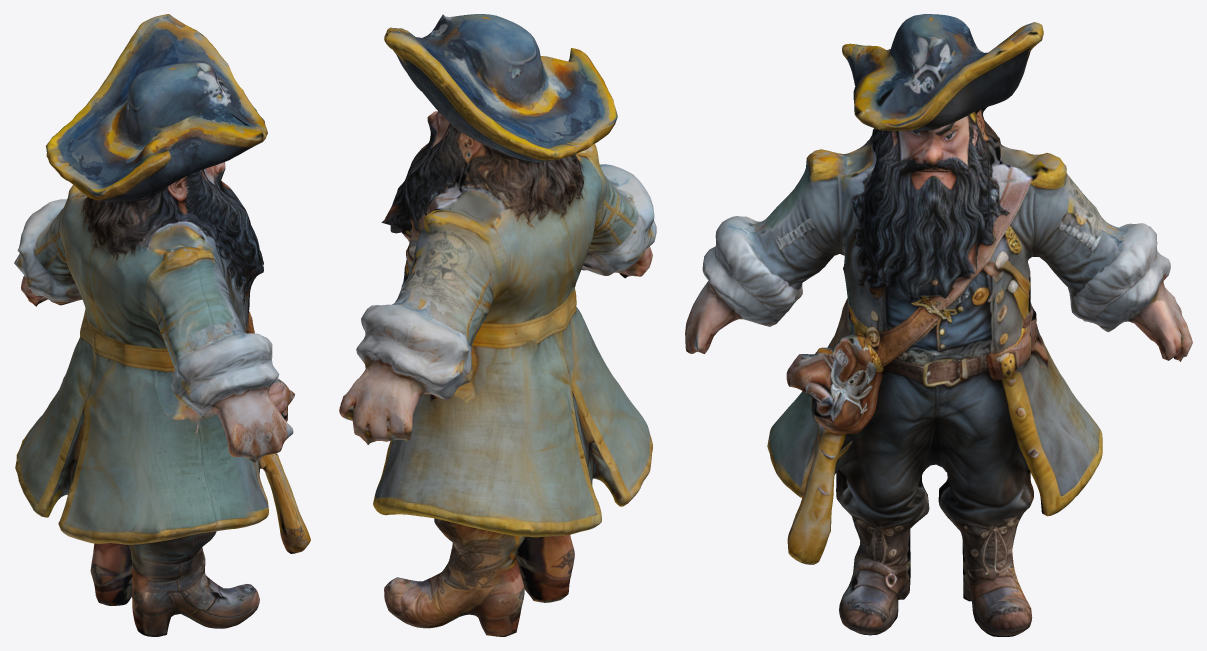
Rendered from pirate3.glb.
3 renders of one model, left to right at view 1: azimuth 30°, elevation 25°; view 2: azimuth 150°, elevation 25°; view 3: azimuth 270°, elevation 25°, orthographic. The views are drawn at different scales.
Bounding box in the file's own units: 0.4652 × 1.2 × 0.9051.
Materials: 1 (1 with a texture image).
